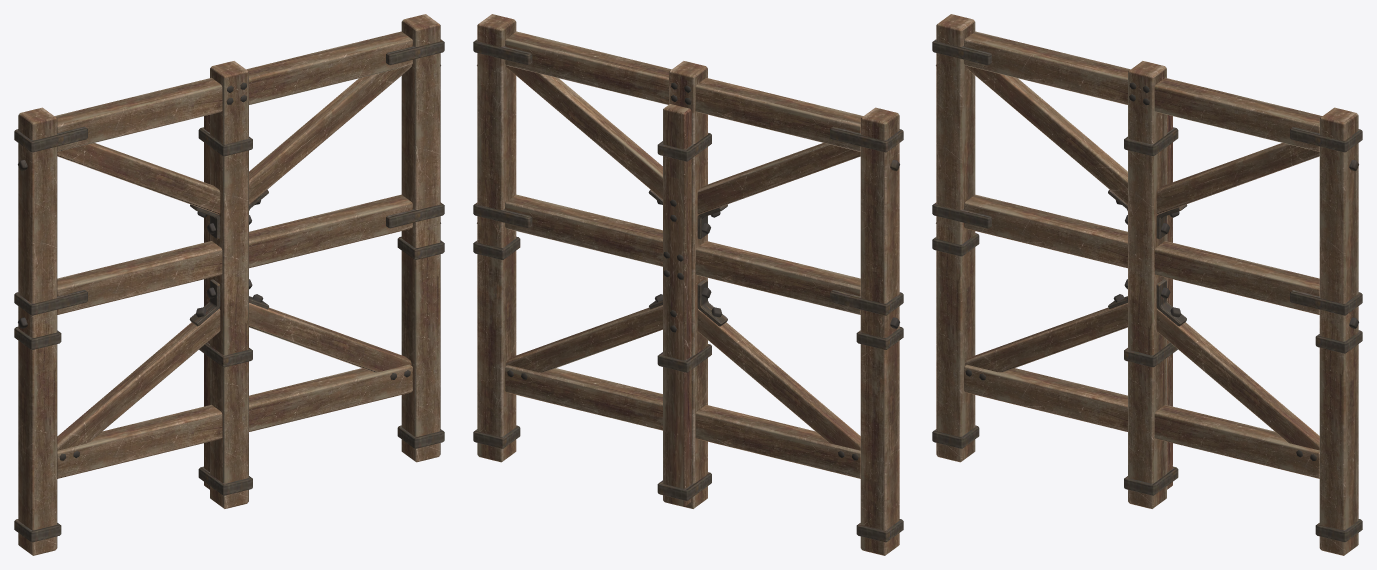
The picture shows the model from 3 angles, left to right: view 1: azimuth 30°, elevation 25°; view 2: azimuth 150°, elevation 25°; view 3: azimuth 330°, elevation 25°; orthographic projection.
Visible parts, largest first — view 1: SM_DR_Wood_Frame_8x8_01_LOD0; view 2: SM_DR_Wood_Frame_8x8_01_LOD0; view 3: SM_DR_Wood_Frame_8x8_01_LOD0.
Part boxes in pixels (<box>): SM_DR_Wood_Frame_8x8_01_LOD0: <box>14,14,444,555</box>; SM_DR_Wood_Frame_8x8_01_LOD0: <box>473,14,903,555</box>; SM_DR_Wood_Frame_8x8_01_LOD0: <box>932,14,1362,555</box>.
Size of the model in its own units: 8.09 by 8 by 0.8456.
2 materials, 2 textured.
